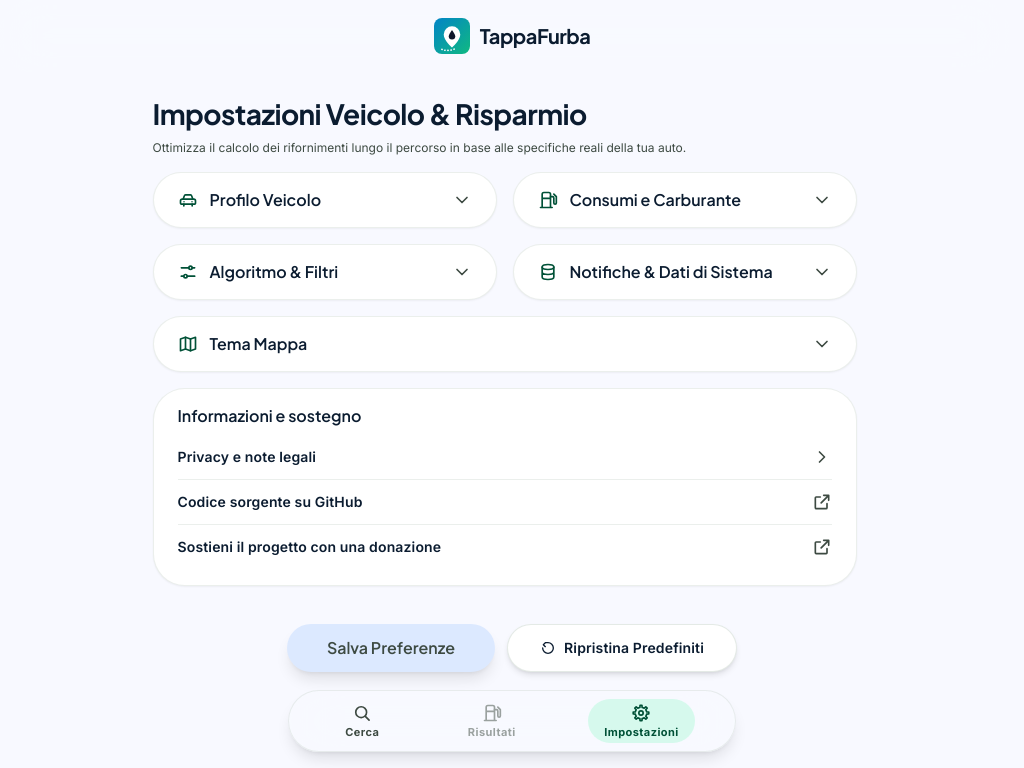
it: App — barra inferiore a 3 tab e rotta /settings › le preferenze salvate precompilano il form di Cerca alla ricerca successiva
La Home resta montata (nascosta) sotto le Impostazioni: si agisce dentro la sezione del profilo veicolo.
Click the button "Profilo Veicolo" at (265, 200), box [154, 173, 496, 227]
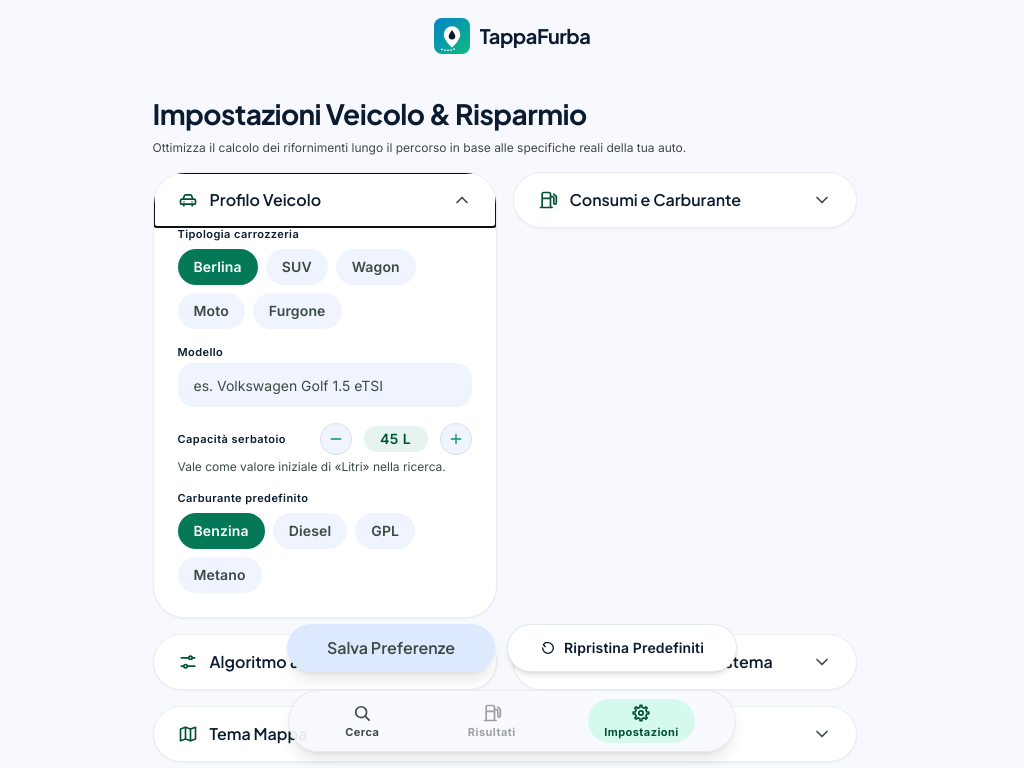
Click the radio button labelled "Diesel" at (310, 531), box [273, 513, 347, 549]
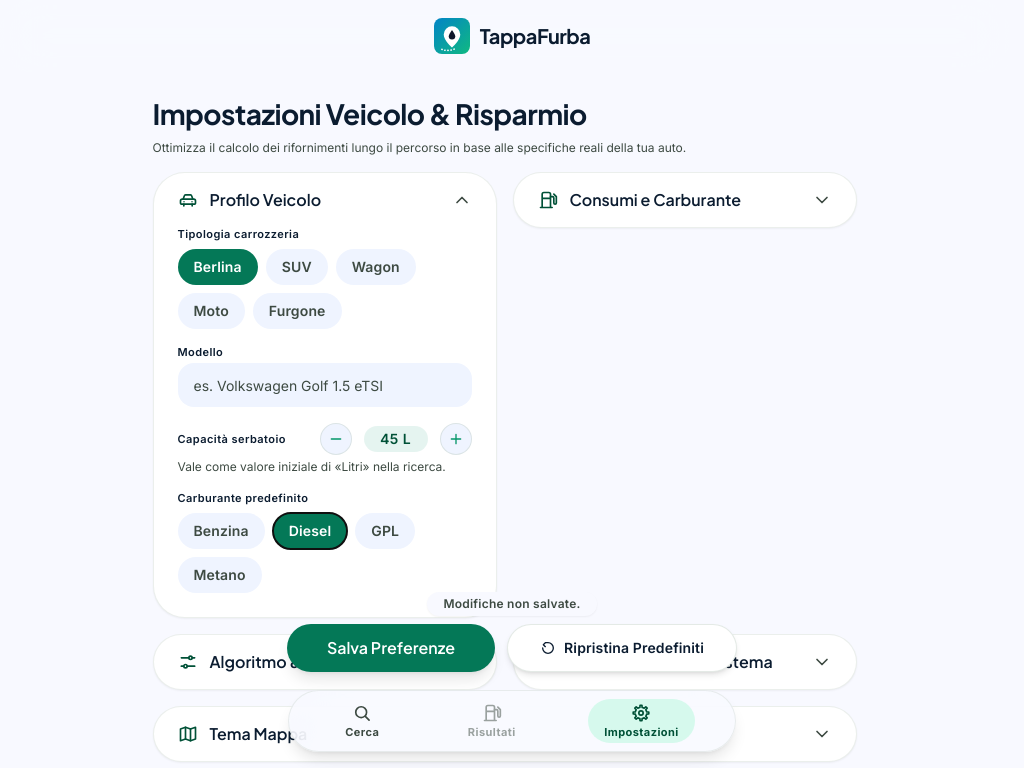
Click the button named "Aumenta capacità serbatoio" at (456, 439), box [440, 423, 472, 455]
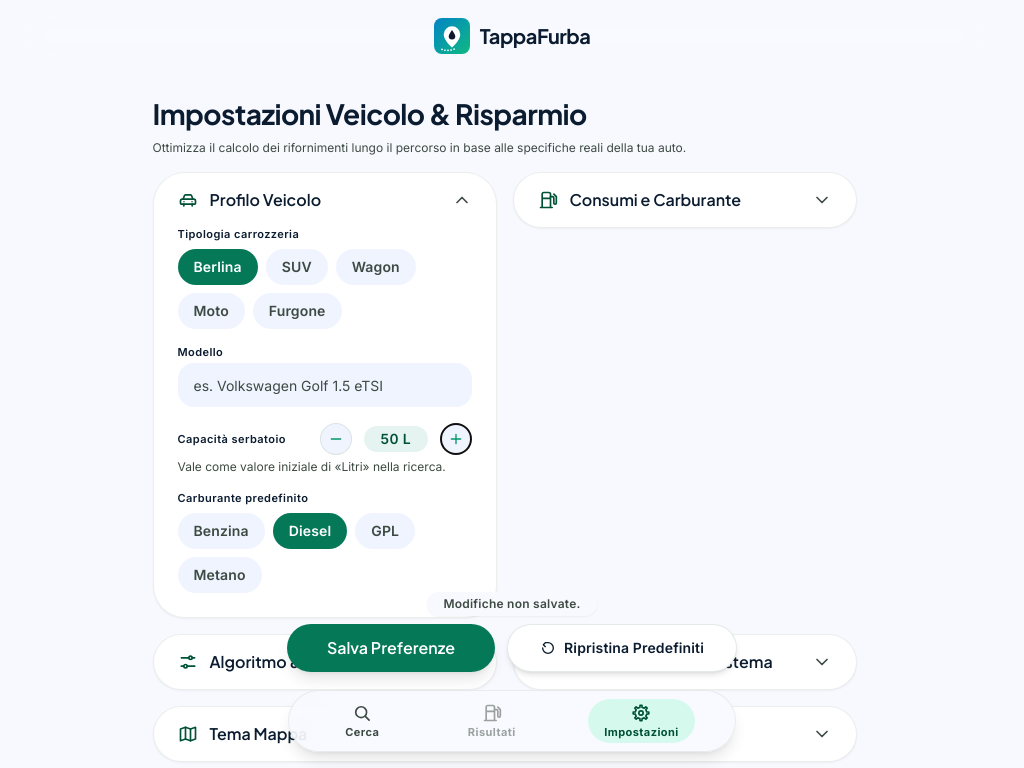
Click the button "Salva Preferenze" at (391, 648), box [287, 624, 495, 672]
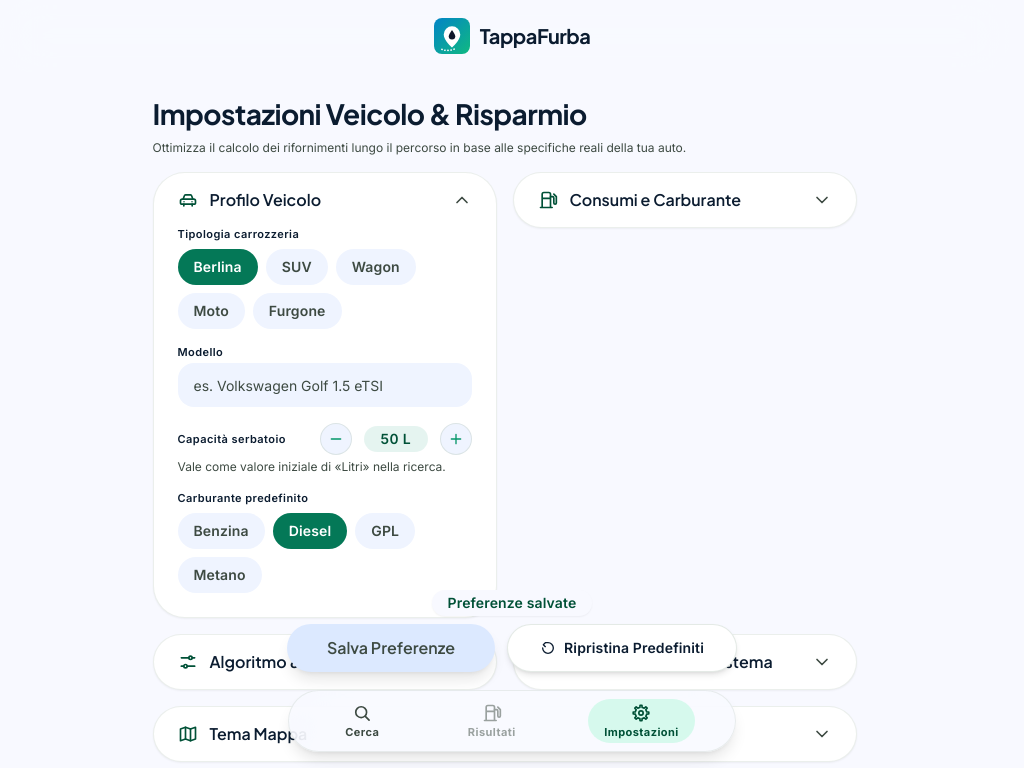
Click the link "Cerca" at (362, 721), box [345, 703, 379, 739]
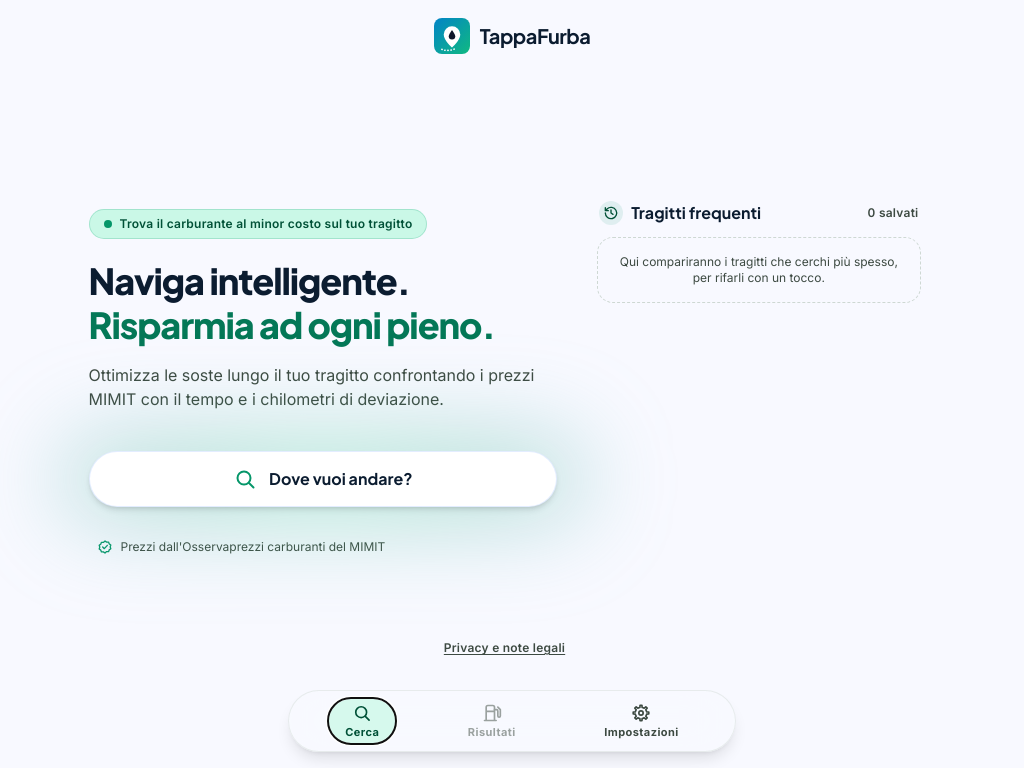
Click the button with test id "search-bar" at (323, 479), box [88, 451, 557, 507]
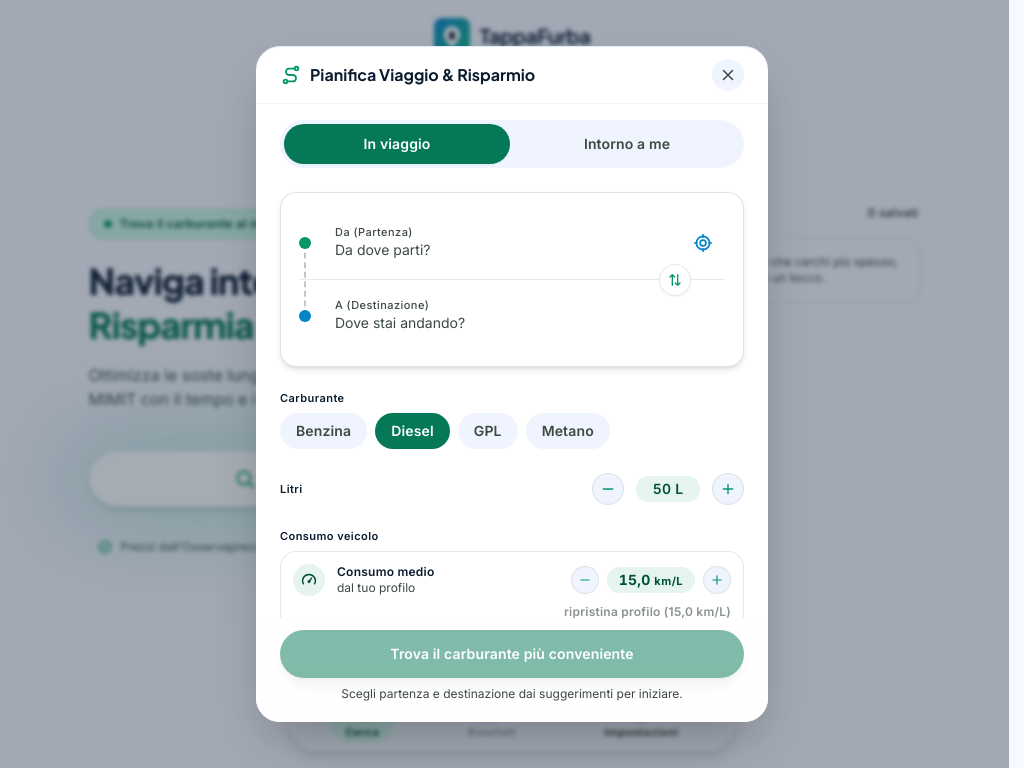
Check: the radio button labelled "Diesel" is shown, box [375, 413, 450, 449]
Check: the text "50 L" is shown, box [636, 476, 700, 502]
